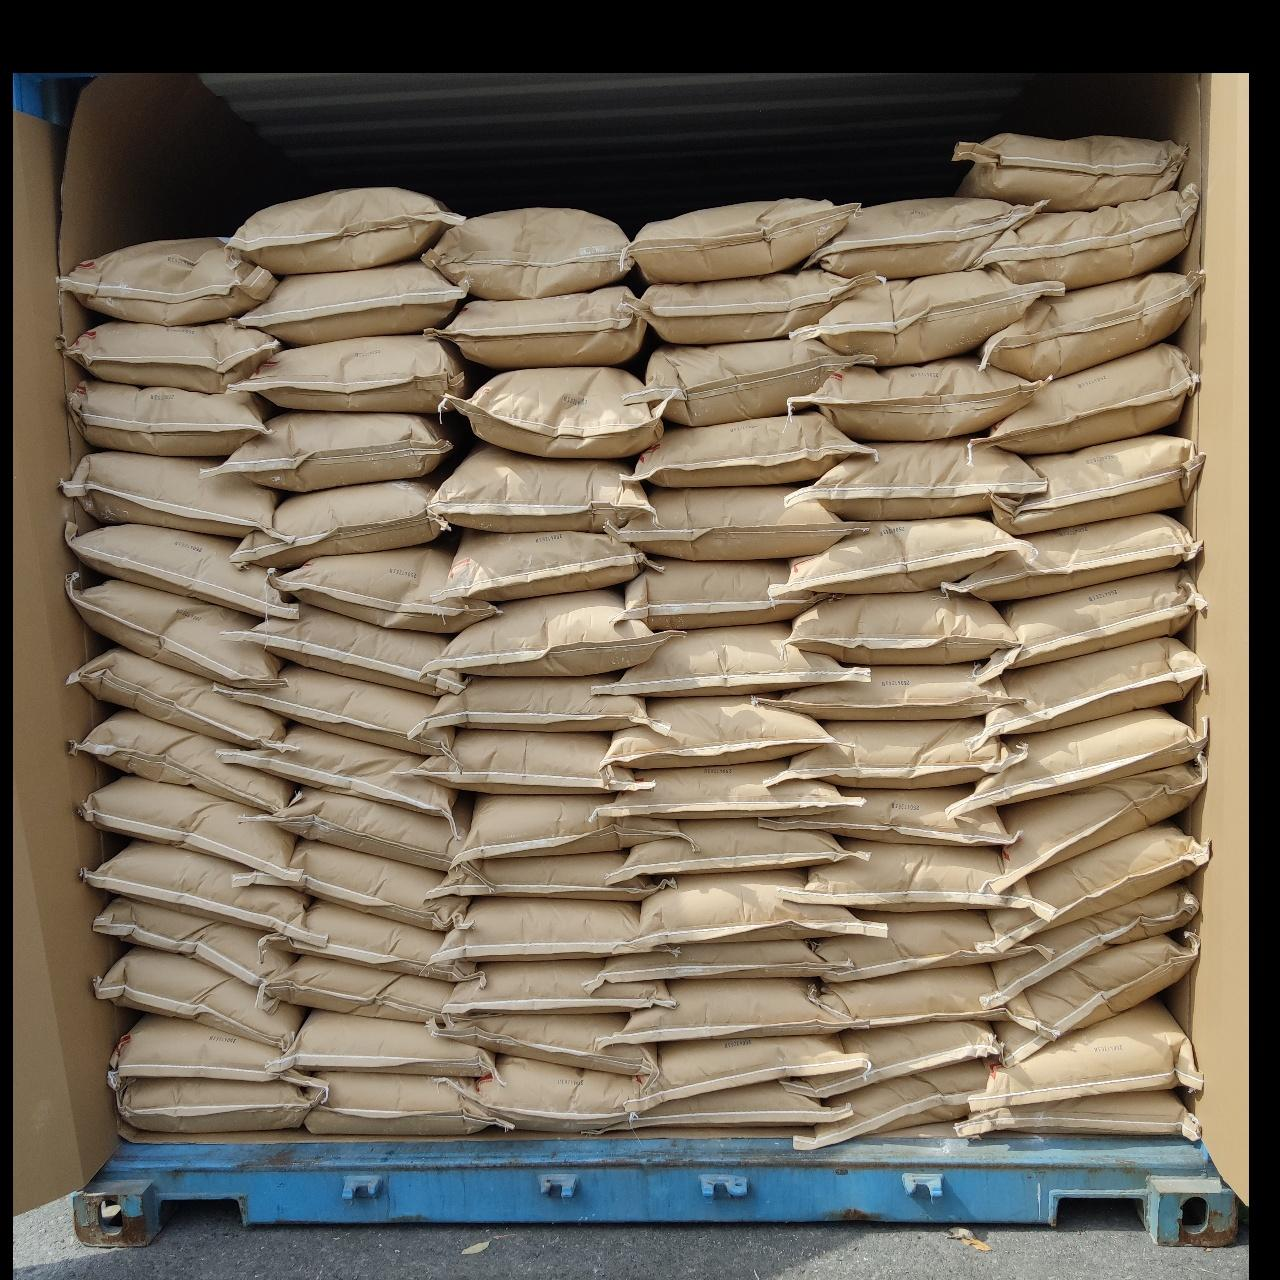sack: (976, 821, 1208, 954), (982, 760, 1201, 892), (947, 708, 1207, 817), (967, 636, 1206, 750), (998, 930, 1198, 1064), (986, 886, 1198, 1008), (794, 272, 1062, 365), (978, 998, 1198, 1108), (980, 568, 1204, 676), (980, 343, 1194, 452), (82, 774, 294, 884), (68, 574, 278, 686), (980, 272, 1196, 377), (70, 644, 286, 748), (72, 708, 292, 810), (976, 188, 1197, 288), (990, 434, 1205, 535), (96, 946, 302, 1050), (942, 515, 1198, 598), (790, 356, 1042, 438), (66, 524, 294, 614), (232, 663, 454, 756), (234, 604, 459, 694), (210, 411, 467, 490), (224, 188, 462, 272), (86, 840, 309, 930), (792, 438, 1040, 518), (234, 474, 445, 566), (232, 726, 454, 813), (626, 338, 856, 422), (272, 544, 498, 629), (250, 840, 468, 928), (784, 840, 1051, 912), (804, 198, 1042, 278), (444, 368, 662, 454), (438, 590, 662, 672), (234, 334, 470, 411), (62, 450, 278, 535), (60, 238, 272, 324), (819, 964, 1061, 1039), (604, 486, 856, 558), (424, 207, 632, 294), (629, 411, 869, 486), (240, 263, 464, 342), (433, 445, 648, 527), (610, 624, 860, 694), (779, 518, 1026, 590), (629, 200, 855, 278), (634, 872, 878, 942), (434, 286, 648, 366), (638, 270, 872, 342), (264, 903, 476, 982), (96, 898, 292, 983), (448, 794, 678, 866), (956, 134, 1184, 206), (799, 1062, 990, 1148), (790, 590, 1014, 662), (634, 1036, 860, 1108), (263, 788, 456, 870), (608, 558, 824, 629), (62, 320, 280, 390), (608, 696, 830, 765), (790, 1020, 996, 1094), (614, 978, 840, 1044), (434, 1012, 658, 1078), (70, 380, 272, 454), (600, 760, 852, 818), (787, 719, 1020, 782), (282, 1010, 493, 1078), (764, 787, 1014, 844), (433, 532, 651, 598), (762, 663, 1017, 719), (406, 730, 640, 790), (816, 910, 1012, 980), (424, 676, 663, 734), (614, 821, 850, 878), (442, 960, 672, 1016), (462, 1056, 634, 1130), (304, 1073, 508, 1133), (263, 956, 454, 1020), (436, 898, 638, 958), (113, 1014, 278, 1085), (425, 852, 663, 900), (114, 1078, 322, 1132), (958, 1092, 1198, 1138), (618, 1080, 846, 1126), (600, 940, 828, 982)
